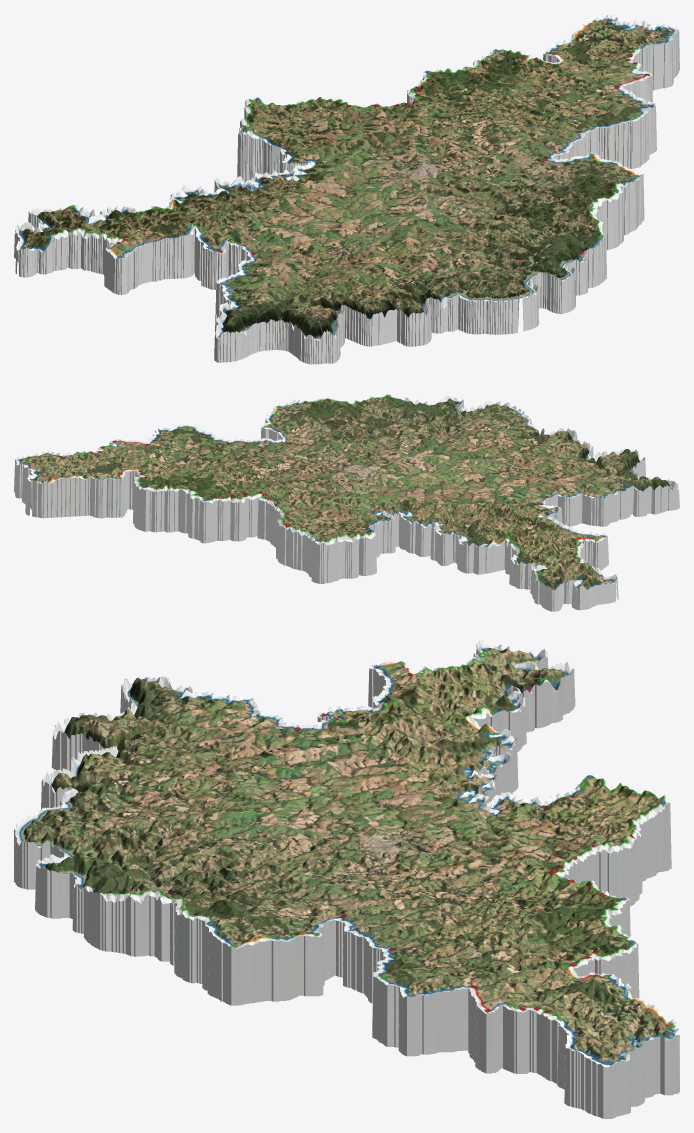
The picture shows the model from 3 angles, top to bottom: view 1: azimuth 30°, elevation 25°; view 2: azimuth 150°, elevation 25°; view 3: azimuth 270°, elevation 25°; orthographic projection. The views are drawn at different scales.
Bounding box in the file's own units: 0.9969 × 0.0732 × 0.6317.
1 material, 1 textured.
